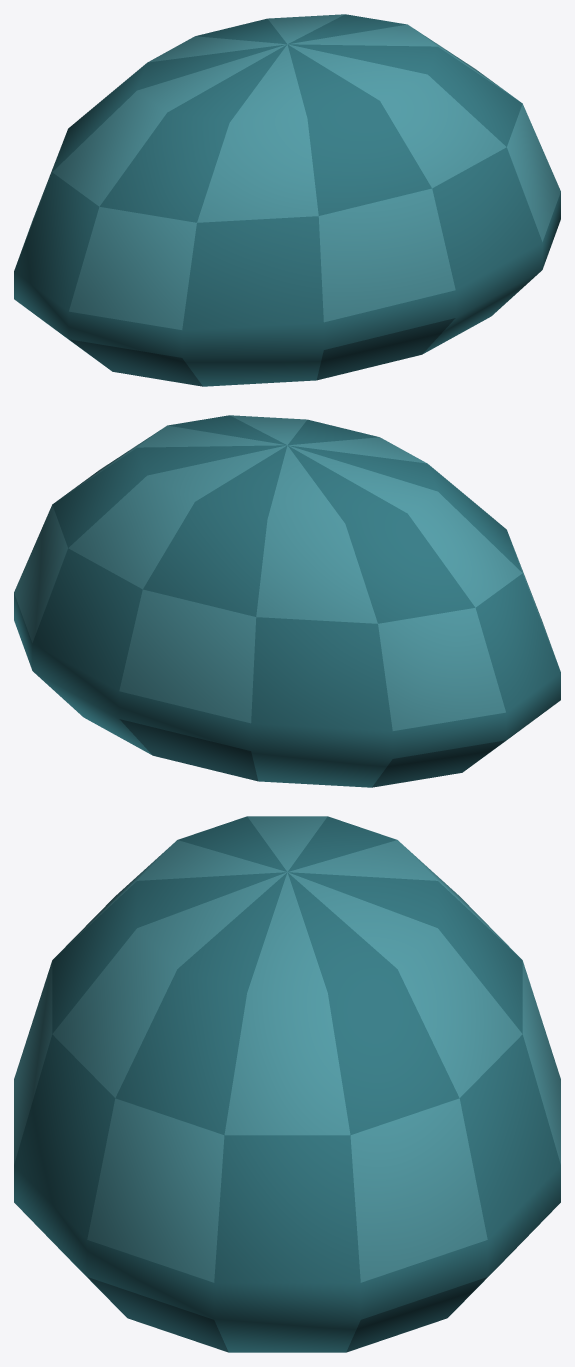
File: Gem_10.glb
3 renders of one model, top to bottom at view 1: azimuth 30°, elevation 25°; view 2: azimuth 150°, elevation 25°; view 3: azimuth 270°, elevation 25°, orthographic. The views are drawn at different scales.
Parts seen in each view (by area): view 1: Gem_10; view 2: Gem_10; view 3: Gem_10.
Boxes of the visible parts, x1,y1,x2,y2 form: Gem_10: (14, 14, 560, 386); Gem_10: (14, 415, 560, 787); Gem_10: (14, 816, 560, 1352).
Bounding box in the file's own units: 1.04 × 0.5724 × 0.7469.
